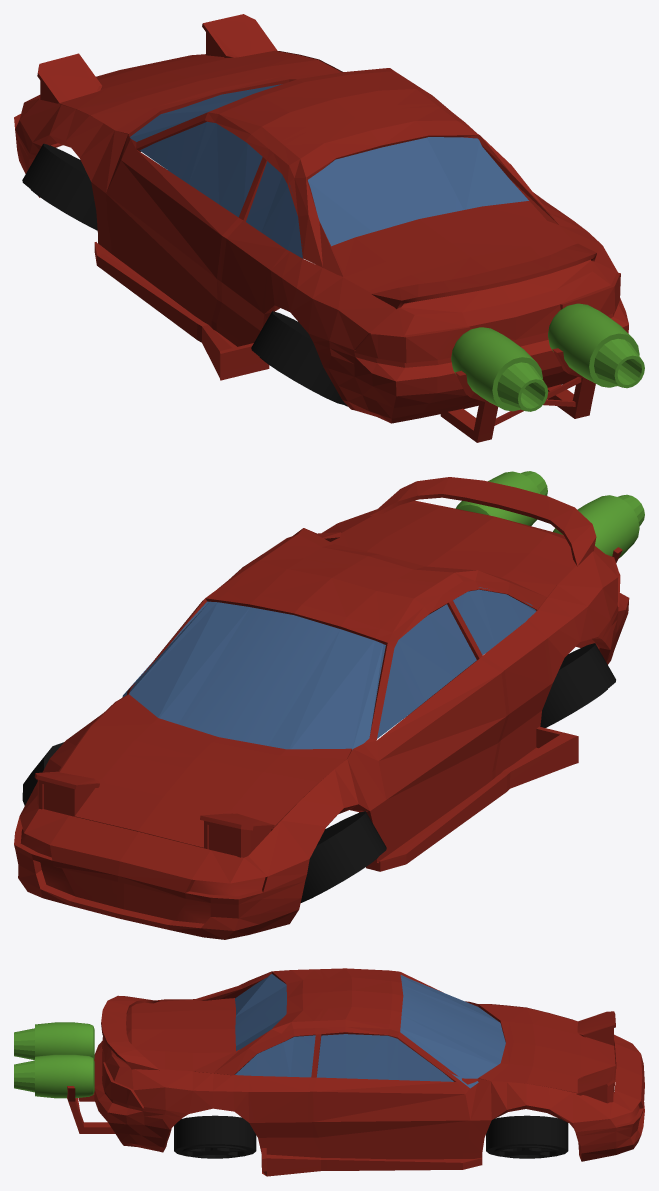
The model's file is Toyota_MR2_VF.fbx.
The picture shows the model from 3 angles, top to bottom: view 1: azimuth 30°, elevation 25°; view 2: azimuth 150°, elevation 25°; view 3: azimuth 270°, elevation 25°; orthographic projection. The views are drawn at different scales.
Parts seen in each view (by area): view 1: Plane001, Reactor02, Reactor01, Wheel04, Wheel03; view 2: Plane001, Wheel03, Wheel04, Reactor01, Reactor02; view 3: Plane001, Wheel01, Wheel02, Reactor02, Reactor01.
Boxes of the visible parts, bbox=[...] form: Plane001: bbox=[14, 14, 628, 442]; Reactor02: bbox=[548, 303, 644, 388]; Reactor01: bbox=[451, 327, 548, 411]; Wheel04: bbox=[251, 311, 347, 406]; Wheel03: bbox=[22, 143, 97, 230]; Plane001: bbox=[14, 477, 629, 939]; Wheel03: bbox=[300, 811, 386, 902]; Wheel04: bbox=[540, 643, 615, 727]; Reactor01: bbox=[553, 494, 644, 558]; Reactor02: bbox=[455, 471, 547, 525]; Plane001: bbox=[67, 968, 644, 1176]; Wheel01: bbox=[486, 1115, 568, 1158]; Wheel02: bbox=[174, 1115, 256, 1158]; Reactor02: bbox=[14, 1054, 94, 1098]; Reactor01: bbox=[14, 1022, 94, 1060].
Size of the model in its own units: 1400 by 772 by 3168.
